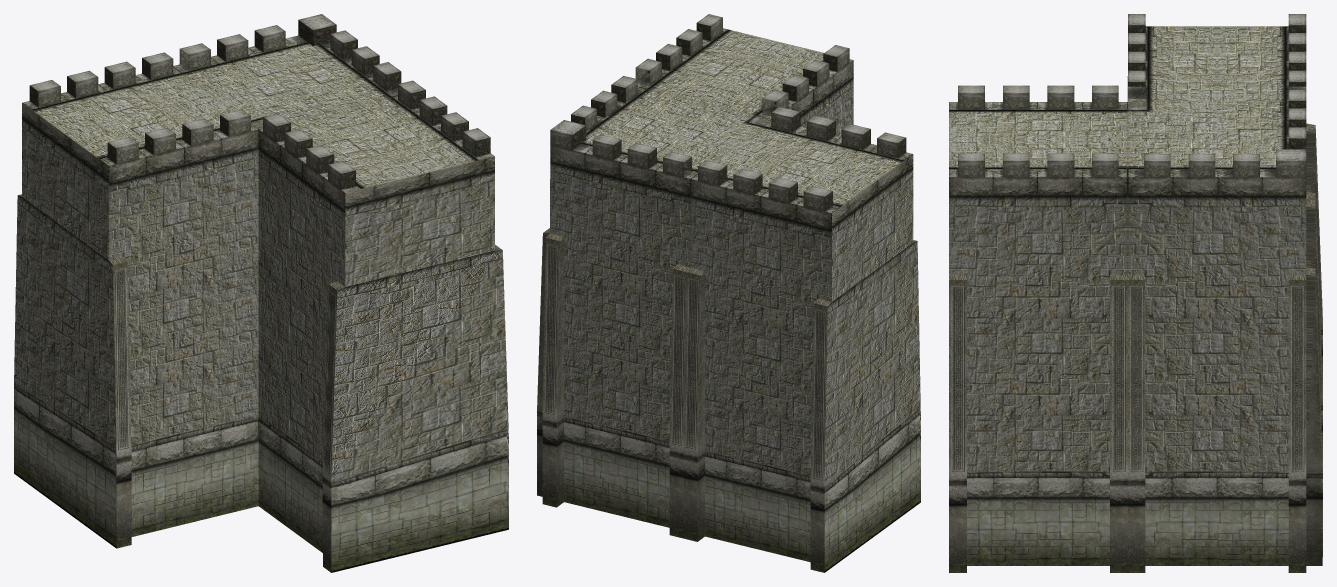
The model's file is b1-bigdam-05.fbx.
The picture shows the model from 3 angles, left to right: view 1: azimuth 30°, elevation 25°; view 2: azimuth 150°, elevation 25°; view 3: azimuth 270°, elevation 25°; orthographic projection. The views are drawn at different scales.
Visible parts, largest first — view 1: 3; view 2: 3; view 3: 3.
Boxes of the visible parts, bbox=[...] form: 3: bbox=[14, 14, 508, 572]; 3: bbox=[537, 14, 920, 572]; 3: bbox=[949, 14, 1322, 572].
Bounding box in the file's own units: 20.93 × 25 × 20.92.
